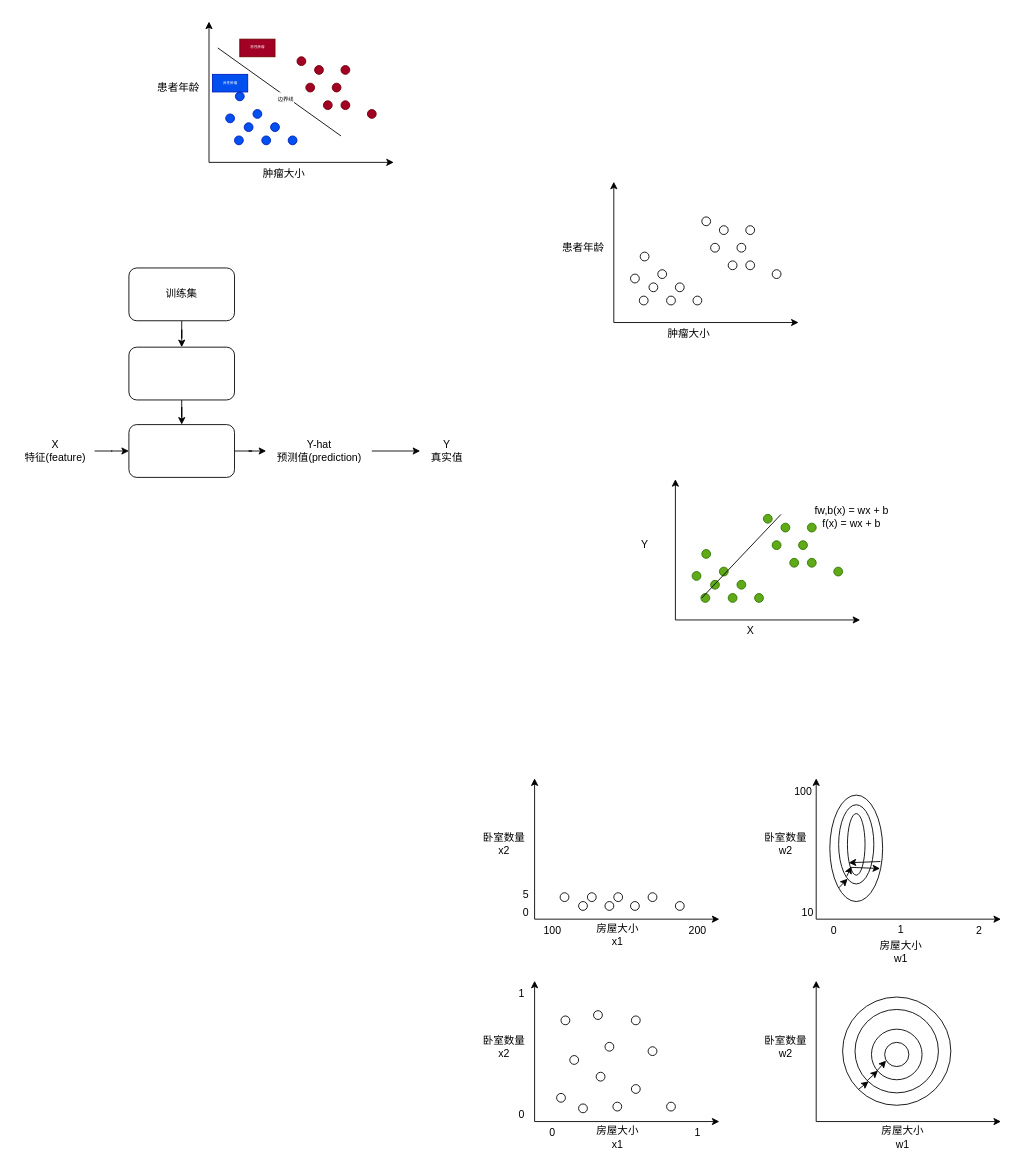
Some shapes in this 1023 by 1170 pixel diagram are drawn without their labels. Here are the shapes that lost their labels. From the top down, the box of each, then its label:
(128, 346, 235, 400): 训练算法
(128, 424, 235, 477): 生成函数f(x)—— 模型
